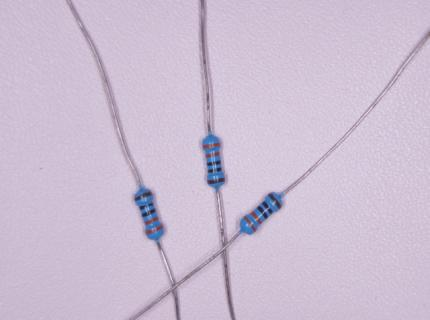Black band: (256, 206, 269, 219), (262, 200, 274, 214), (142, 208, 156, 218), (139, 202, 154, 210), (208, 160, 221, 166), (208, 168, 222, 173)
Brown band: (268, 193, 282, 210), (134, 191, 153, 201), (207, 178, 225, 184)
Orange band: (243, 216, 258, 233), (145, 225, 164, 236), (251, 211, 263, 225), (145, 216, 159, 225), (203, 142, 221, 149), (205, 152, 220, 158)
